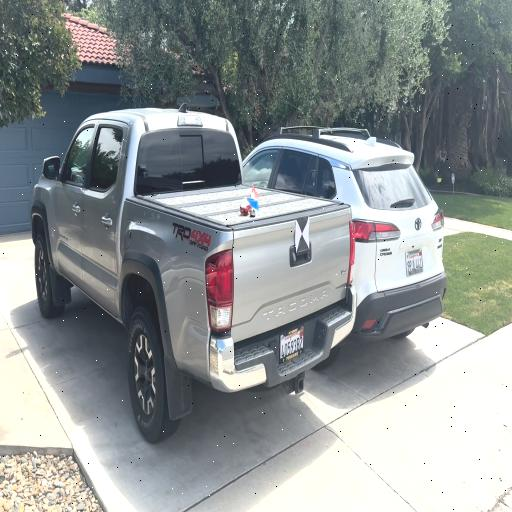target: (296, 216, 310, 252)
